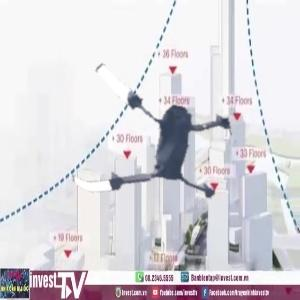drone: (60, 39, 256, 235)
